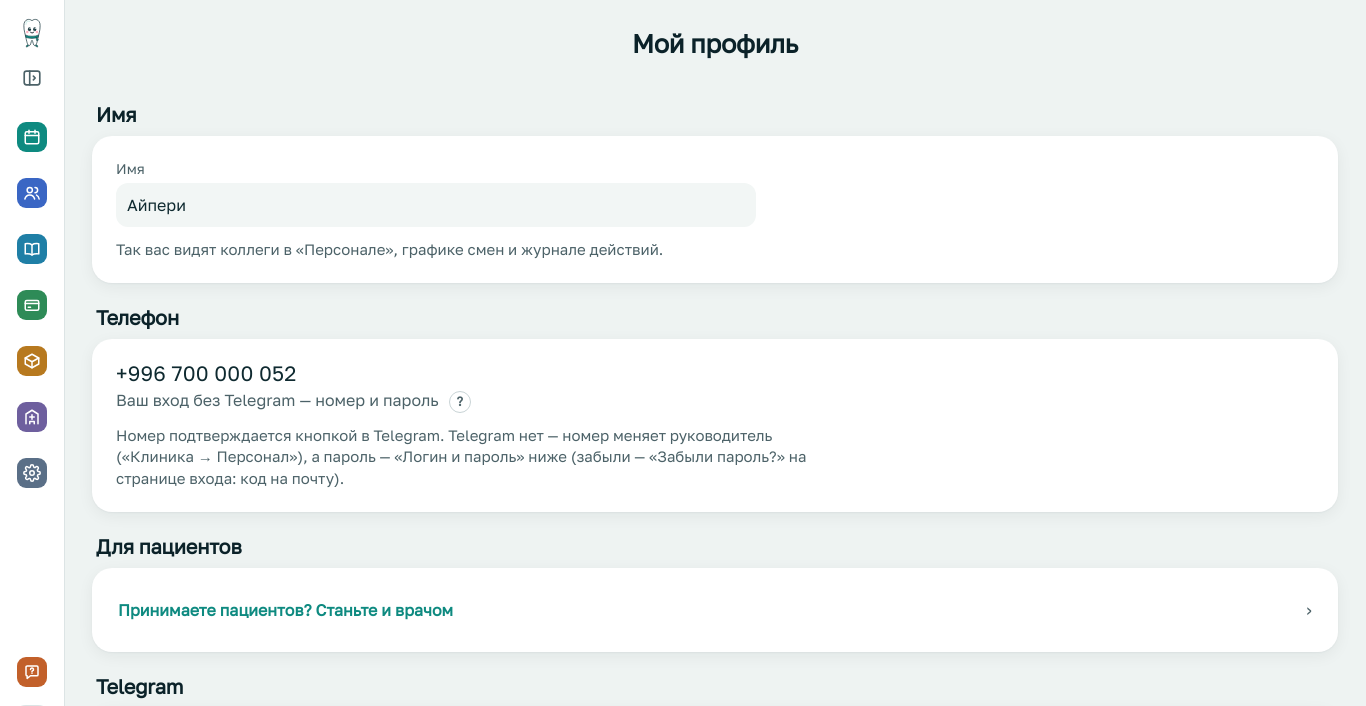
Test: «Мой профиль»: без Telegram номер — единственный вход: убрать нельзя, меняет руководитель
The image size is (1366, 706).
Expected: the text "+996 700 000 052" is shown, [116, 361, 297, 386]
Expected: the element "Телефон" shows "Ваш вход без Telegram — номер и пароль", [116, 390, 439, 410]
Click the button named "Подсказка: Номер для входа". click: (460, 402)
box: [449, 390, 471, 412]
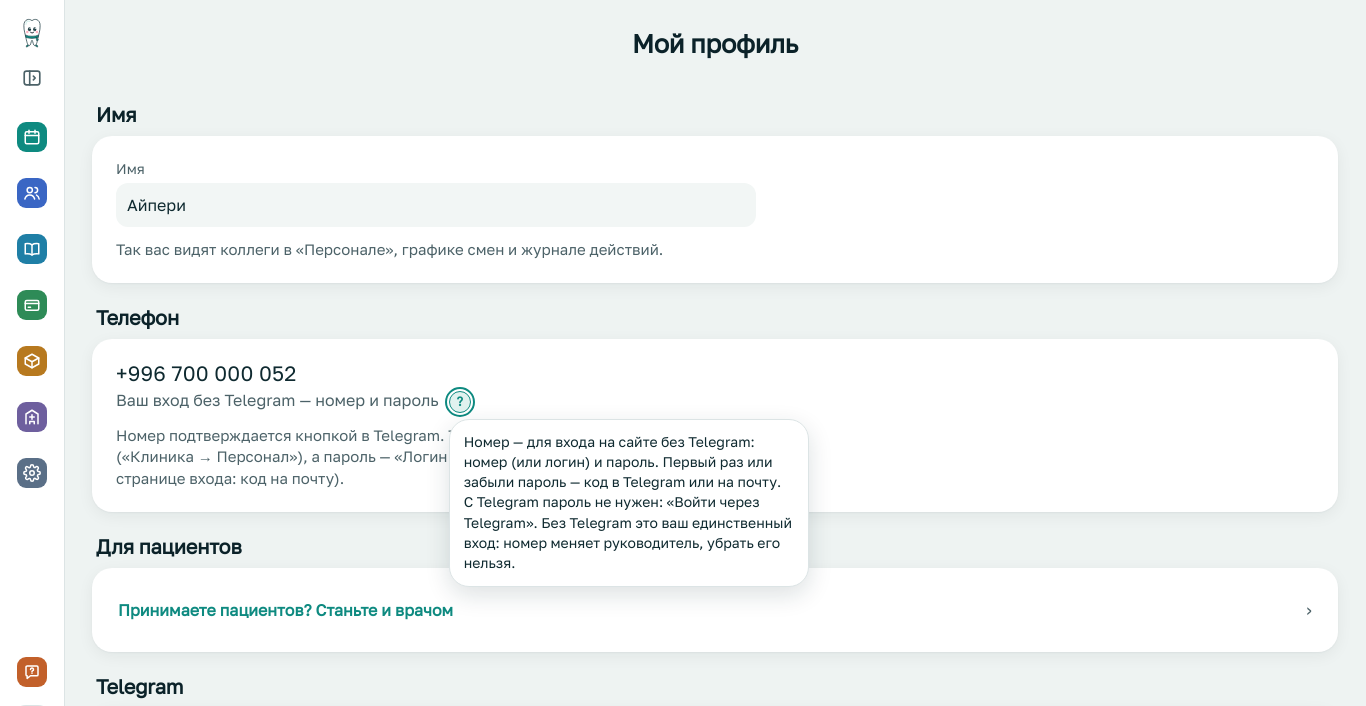
Result: the element named "Подсказка: Номер для входа" shows "Без Telegram это ваш единственный вход: номер меняет руководитель, убрать его нельзя." at [464, 514, 792, 571]
Result: the element named "Подсказка: Номер для входа" shows "код в Telegram или на почту" at [464, 432, 781, 531]
